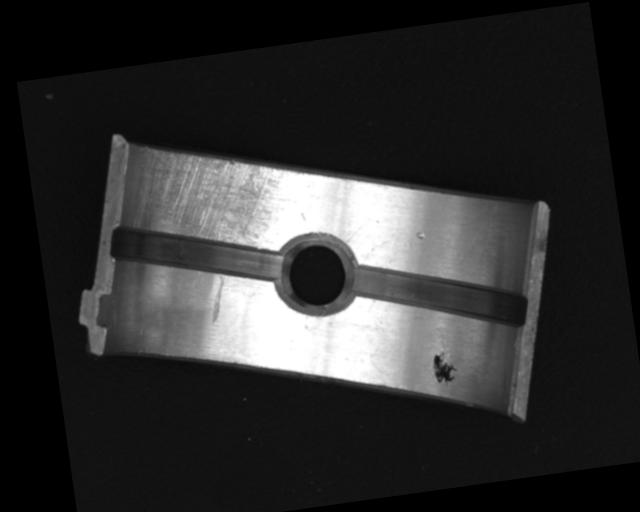blot: (430, 349, 461, 390)
bruise: (413, 230, 428, 240)
gap: (344, 241, 530, 351), (107, 204, 286, 304)
hole: (271, 229, 361, 316)
nick: (203, 272, 230, 324), (339, 217, 373, 245)
scratch: (126, 124, 303, 264)
